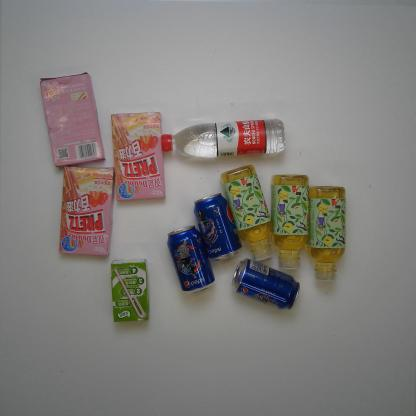Dessert: (39, 72, 106, 167), (110, 106, 169, 202), (58, 162, 112, 256)
Drink: (159, 118, 288, 159), (222, 164, 273, 264), (270, 171, 310, 271), (307, 182, 345, 287), (230, 256, 302, 308), (166, 224, 216, 297), (193, 188, 241, 260)
Milk: (109, 257, 155, 325)
